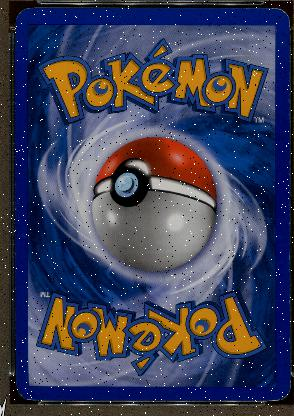Card: (11, 3, 291, 404)
Corner Wear: (262, 392, 286, 402), (270, 6, 286, 18), (18, 393, 39, 401), (17, 7, 30, 18), (286, 379, 290, 395)
Edge Wear: (286, 71, 289, 181), (286, 188, 288, 286), (285, 44, 288, 67), (285, 292, 289, 306), (286, 333, 289, 349), (14, 101, 16, 113), (14, 207, 16, 211)
Scratch: (234, 376, 241, 384), (19, 233, 28, 239), (119, 285, 127, 291), (167, 389, 179, 393), (14, 198, 20, 206), (253, 7, 261, 10), (154, 20, 160, 24), (277, 334, 282, 338), (278, 235, 281, 239), (275, 299, 278, 301)
